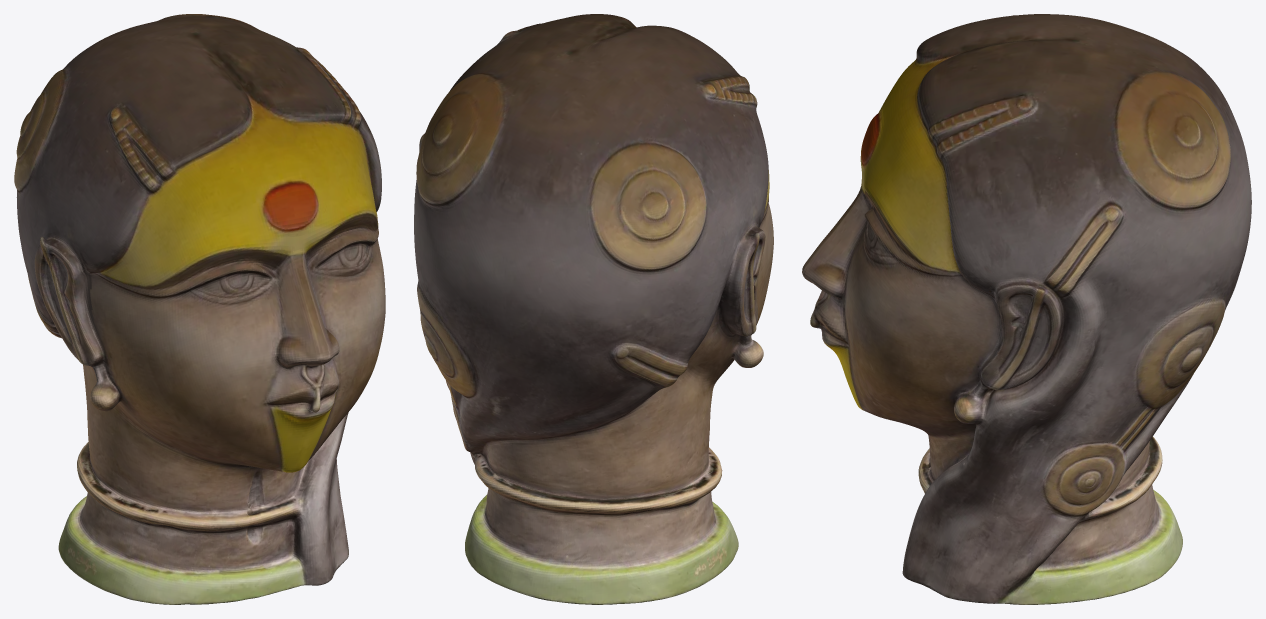
The model's file is thota-female-head-with-side-braid.glb.
The picture shows the model from 3 angles, left to right: view 1: azimuth 30°, elevation 25°; view 2: azimuth 150°, elevation 25°; view 3: azimuth 270°, elevation 25°; orthographic projection. The views are drawn at different scales.
Parts seen in each view (by area): view 1: 33 - Thotta - Female Head - 08; view 2: 33 - Thotta - Female Head - 08; view 3: 33 - Thotta - Female Head - 08.
Boxes of the visible parts, x1=… form: 33 - Thotta - Female Head - 08: x1=14, y1=14, x2=385, y2=604; 33 - Thotta - Female Head - 08: x1=414, y1=14, x2=773, y2=604; 33 - Thotta - Female Head - 08: x1=802, y1=14, x2=1251, y2=604.
Bounding box in the file's own units: 84.5 × 126 × 99.57.
1 material, 1 textured.
